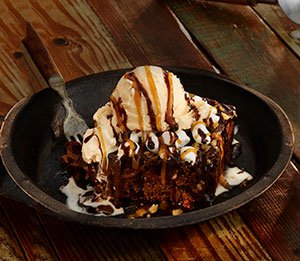curry: (1, 1, 298, 255)
sushi: (60, 65, 242, 215)
